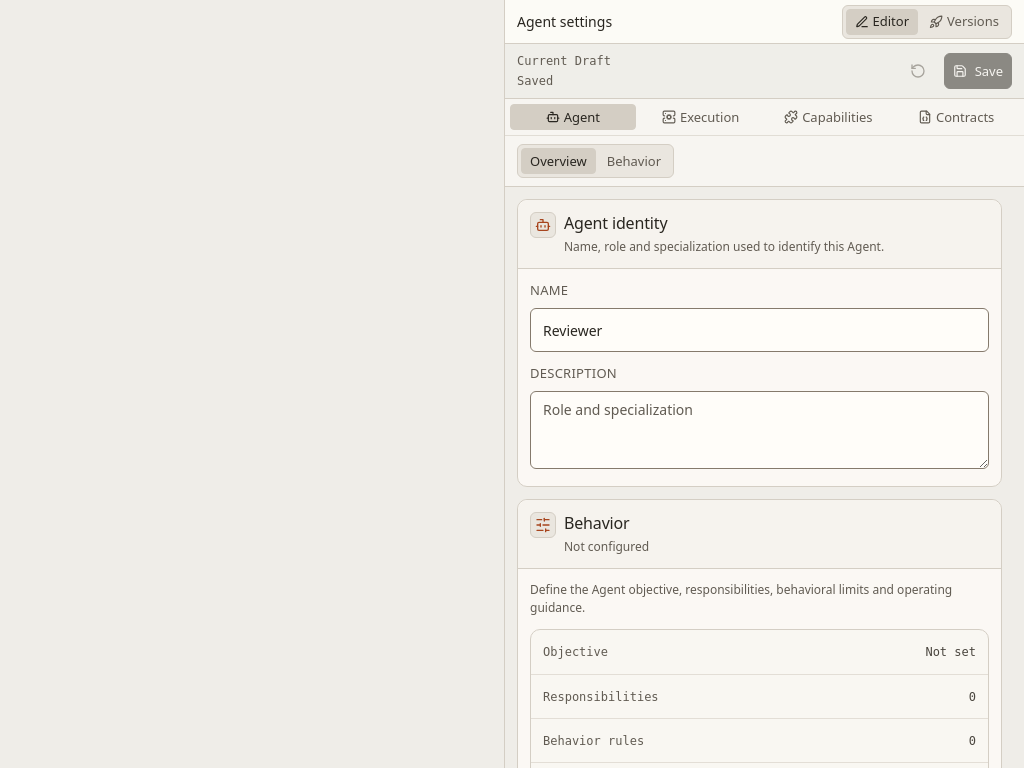
Test: Skills navigation regression › makes Skills visible and usable in the standalone editor
This screenshot has width=1024, height=768.
Click the button "Capabilities". click: (828,117)
box: [766,104,891,130]
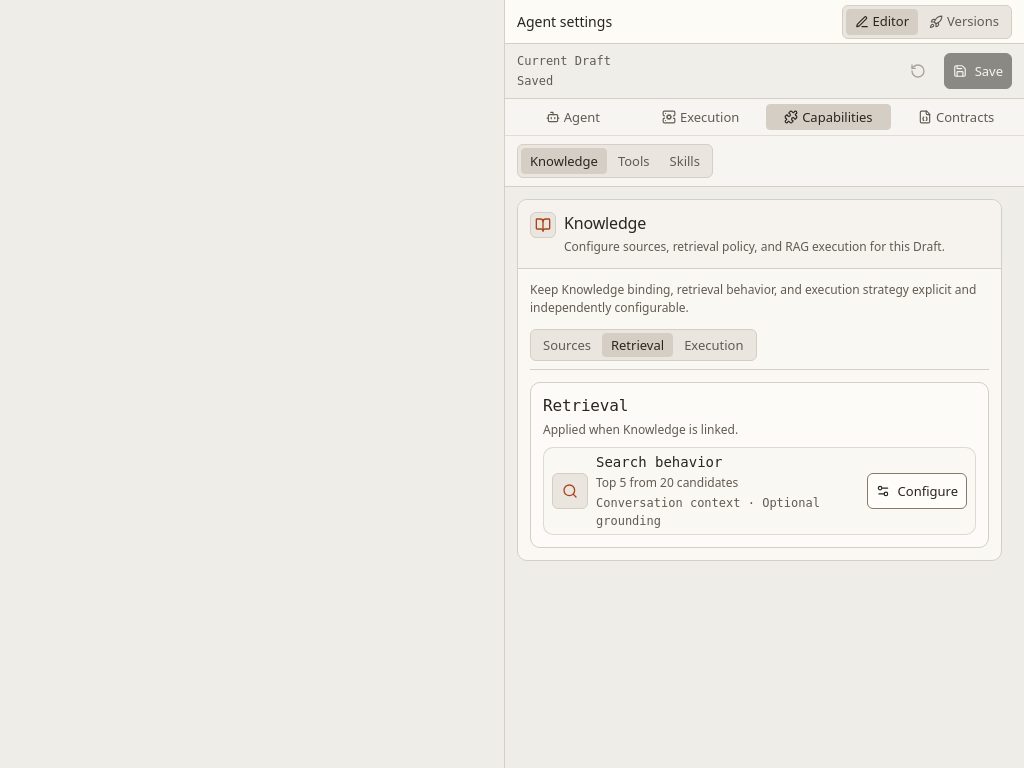
Click the button "Skills". click: (685,161)
box: [661,148,709,174]
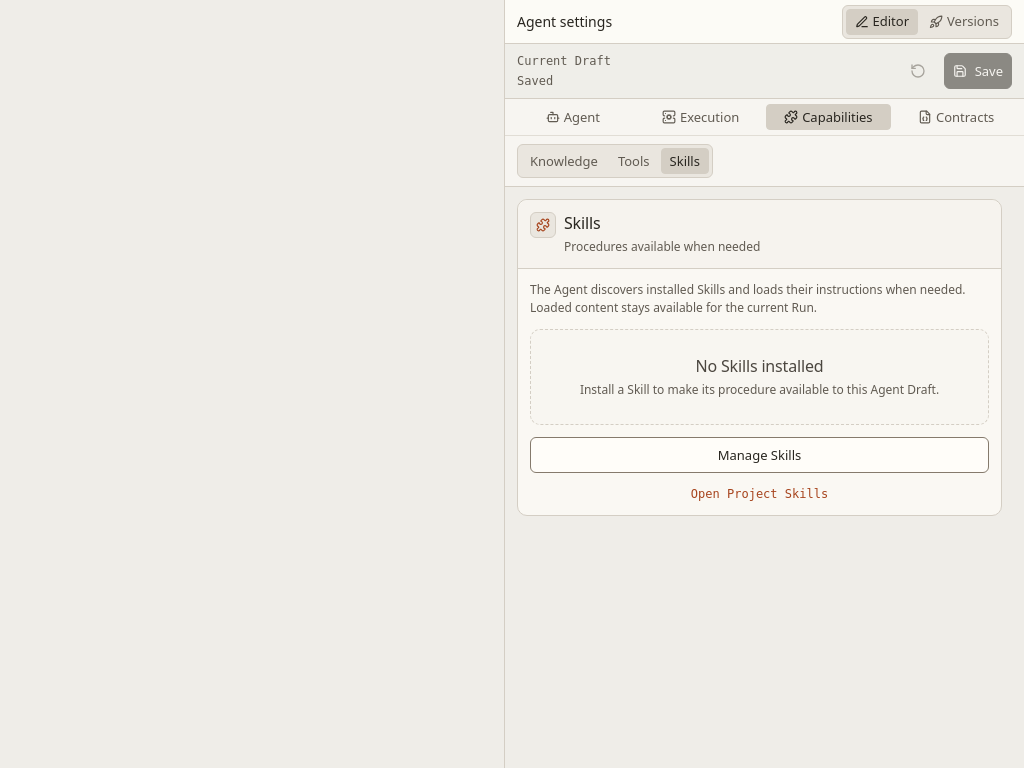
Result: the button "Manage Skills" is enabled
Result: the element named "Installed Skills" is shown at [517,199,1002,516]
Click the button "Manage Skills". click: (760,455)
box: [530,437,989,473]
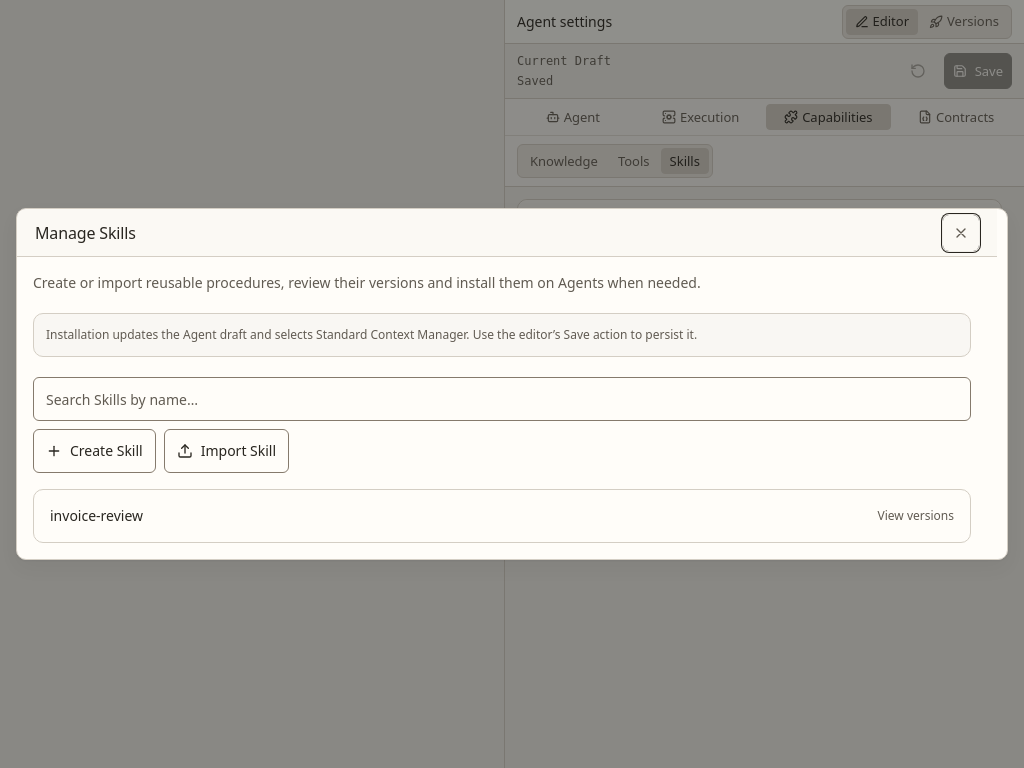
Result: the text "invoice-review" is shown at [50,506,143,526]
Result: the button "Create Skill" is shown at [33,429,156,473]
